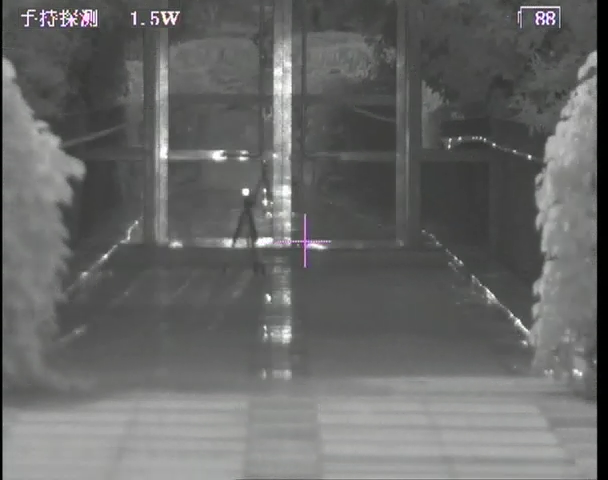my: (242, 187, 251, 198)
